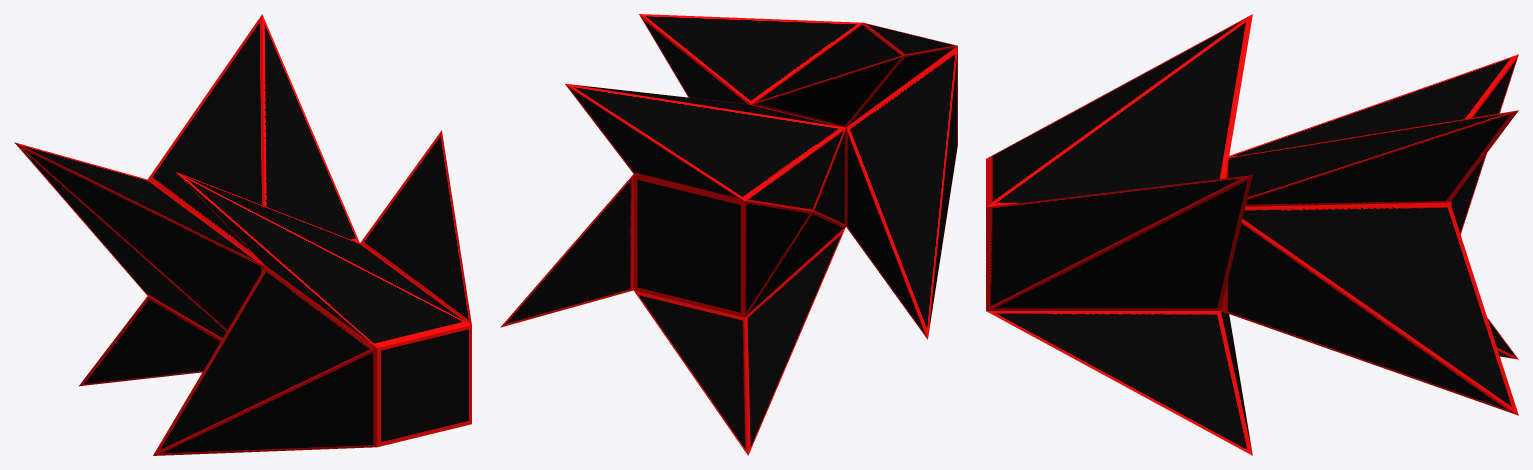
File: WormV2Body.fbx
3 renders of one model, left to right at view 1: azimuth 30°, elevation 25°; view 2: azimuth 150°, elevation 25°; view 3: azimuth 270°, elevation 25°, orthographic. The views are drawn at different scales.
Parts seen in each view (by area): view 1: pCube1; view 2: pCube1; view 3: pCube1.
Boxes of the visible parts, x1,y1,x2,y2 form: pCube1: (14, 14, 471, 455); pCube1: (500, 14, 957, 455); pCube1: (986, 14, 1518, 455).
Bounding box in the file's own units: 2.37 × 2.37 × 3.33.
1 material, 1 textured.
